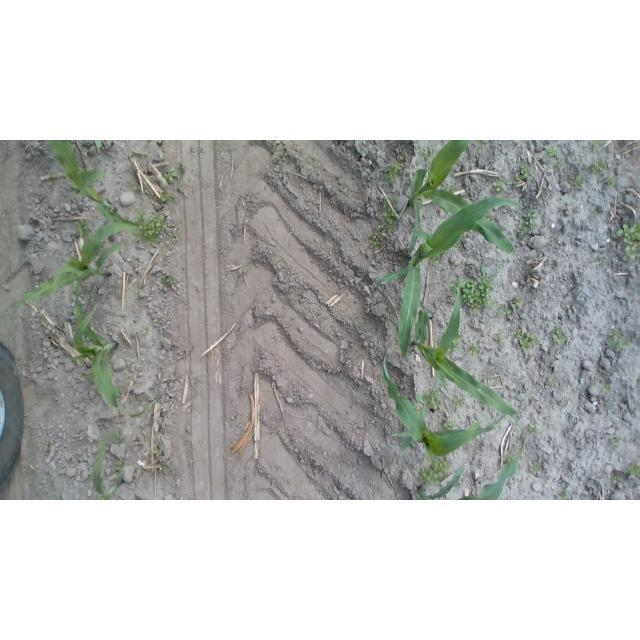Maize: (373, 197, 527, 358), (405, 279, 532, 442), (377, 347, 514, 463), (8, 219, 154, 322), (402, 140, 519, 260), (63, 290, 162, 421), (405, 437, 533, 500), (47, 140, 138, 226), (90, 432, 130, 500)
Weeds: (449, 265, 492, 315), (414, 386, 446, 417), (617, 223, 640, 261), (418, 460, 450, 484), (146, 213, 169, 245), (518, 208, 538, 239), (378, 210, 398, 235), (607, 331, 630, 352), (517, 331, 538, 352), (447, 333, 466, 355), (160, 167, 181, 183), (550, 327, 567, 346), (384, 164, 400, 182), (74, 220, 92, 236), (441, 181, 460, 196), (588, 158, 605, 174), (568, 176, 585, 192), (608, 438, 623, 454), (134, 212, 151, 226), (450, 397, 465, 412), (472, 142, 485, 159), (158, 192, 175, 205), (112, 430, 125, 447), (492, 180, 507, 194), (598, 383, 614, 396), (114, 458, 127, 474), (520, 164, 532, 181), (368, 231, 380, 248), (467, 343, 482, 356), (496, 306, 511, 319), (543, 146, 558, 159), (159, 274, 174, 287), (382, 197, 399, 208), (511, 297, 525, 310), (45, 171, 57, 186), (529, 464, 542, 477), (443, 419, 457, 431), (628, 461, 640, 475), (128, 254, 142, 266), (160, 461, 171, 476), (603, 174, 615, 187), (421, 150, 433, 163), (152, 446, 165, 458), (588, 140, 605, 149), (555, 490, 570, 500), (276, 152, 291, 162), (551, 156, 563, 168), (526, 422, 538, 434), (132, 233, 149, 241), (551, 234, 562, 246), (172, 183, 184, 194), (612, 474, 624, 484), (139, 324, 149, 336), (172, 230, 181, 243), (529, 396, 539, 407), (512, 172, 521, 184), (42, 443, 52, 453), (546, 377, 555, 388), (494, 332, 503, 341), (132, 184, 141, 193), (592, 254, 599, 264), (457, 265, 465, 270)
